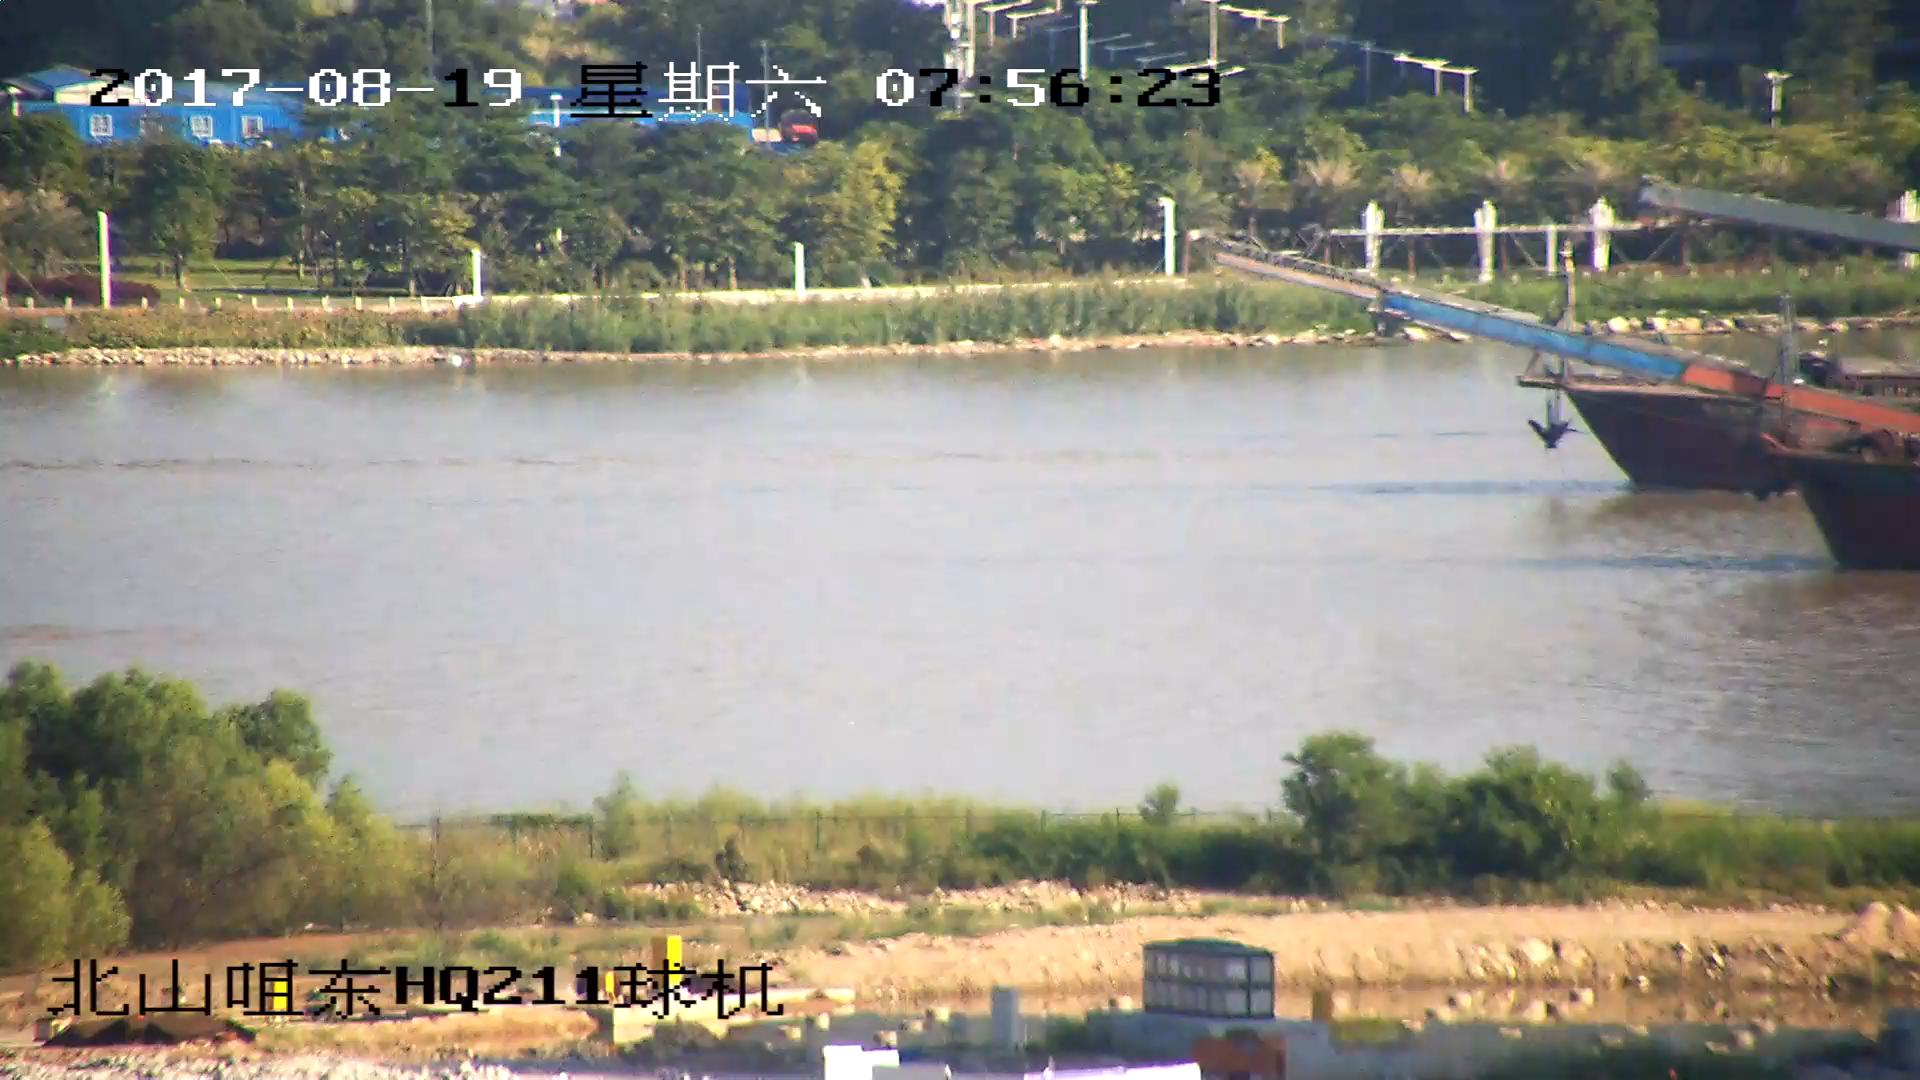bulk cargo carrier: (1382, 297, 1920, 578), (1211, 238, 1770, 504)
